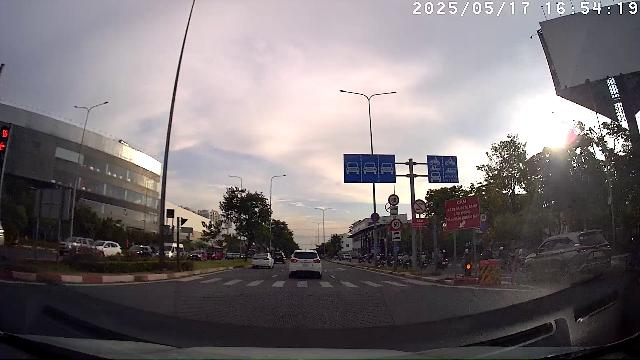127-toc-do-toi-da-60: (391, 219, 402, 229)
127-toc-do-toi-da-80: (388, 194, 399, 206)
